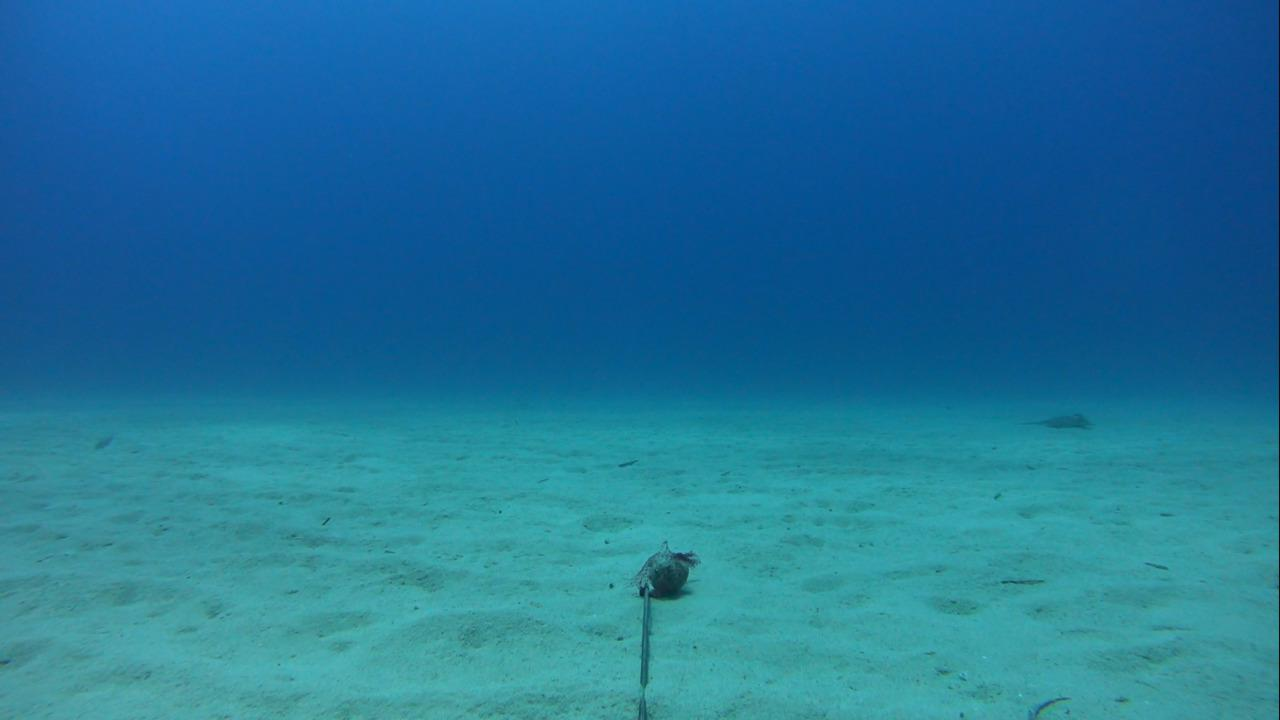myliobatis: (1003, 406, 1091, 433)
